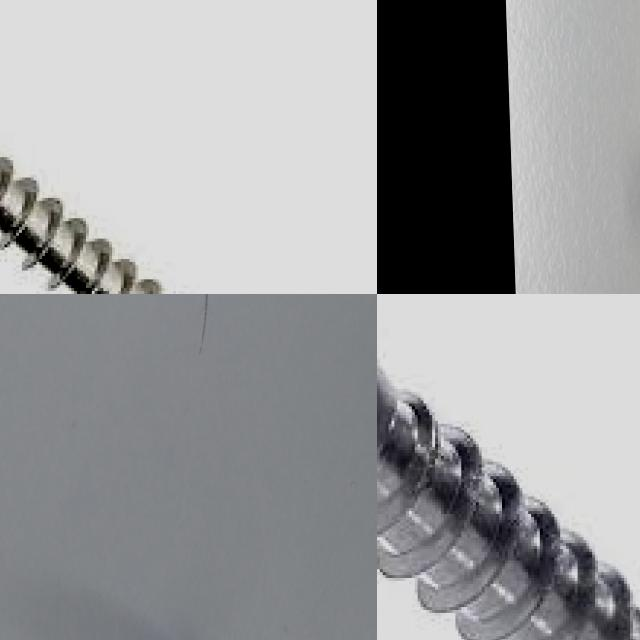Screw: (377, 366, 640, 640), (0, 160, 162, 294)
